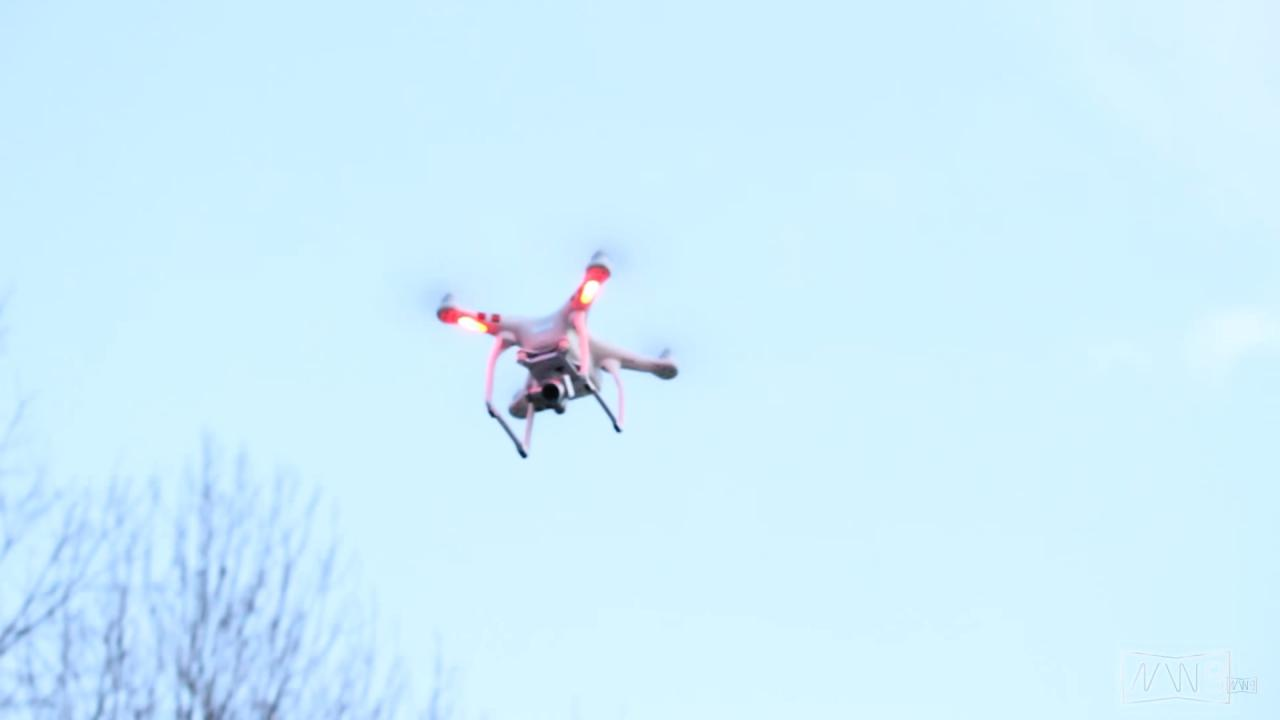Drone: (410, 226, 695, 468)
